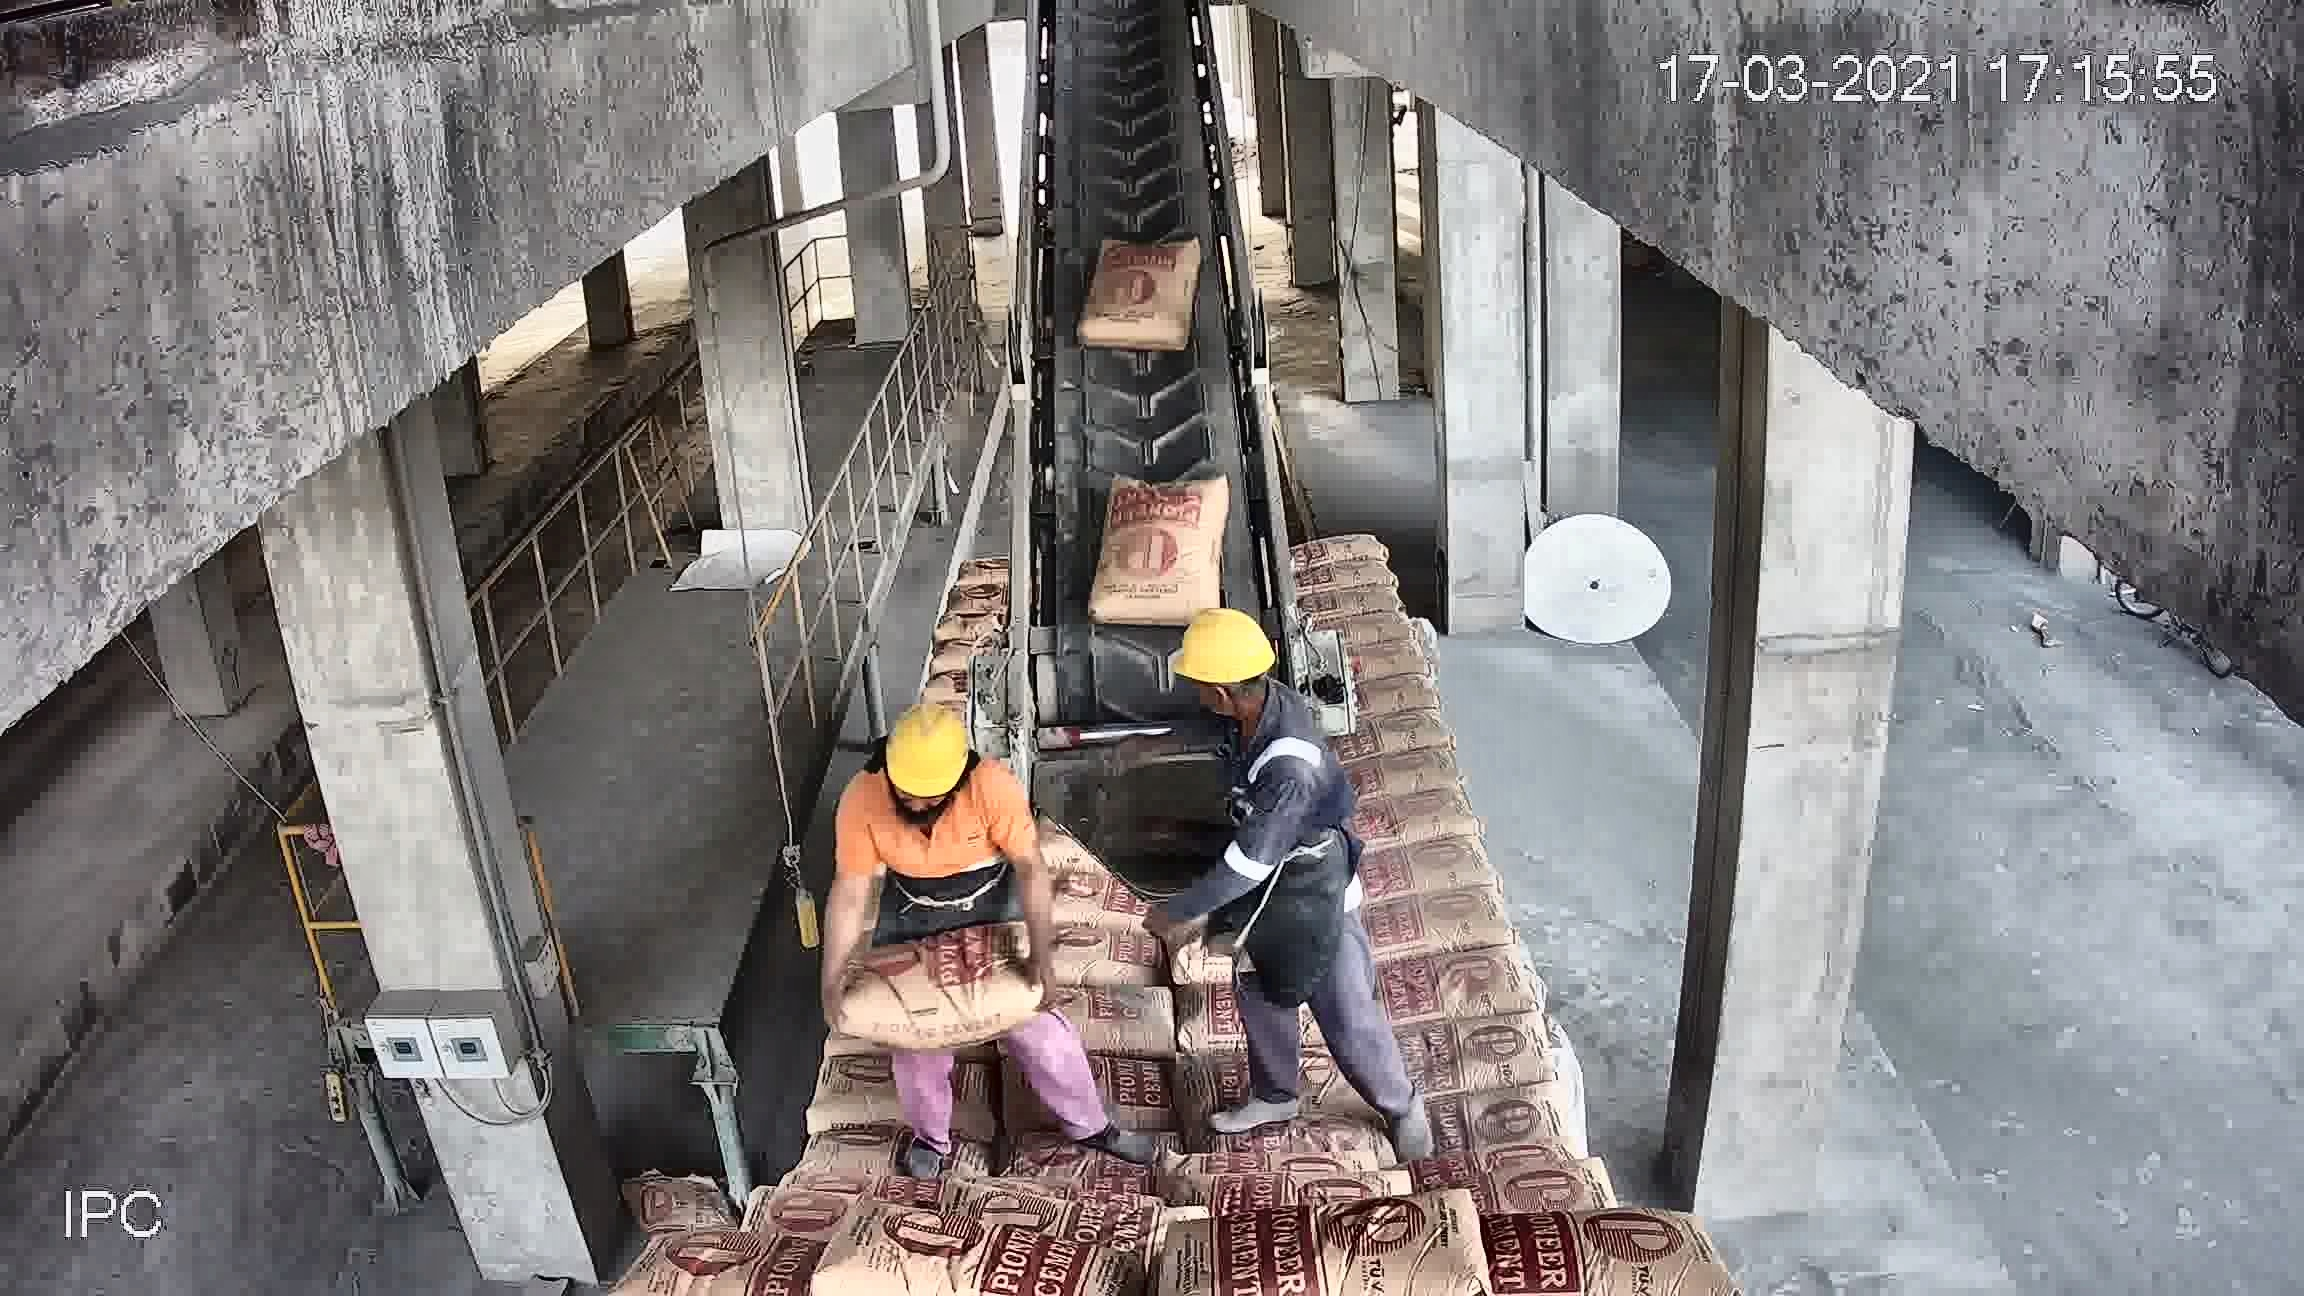bag: (997, 0, 1283, 851), (1086, 465, 1226, 627), (1074, 239, 1199, 343)
bag_h: (1199, 1204, 1525, 1294), (821, 921, 1032, 1048), (1437, 1204, 1696, 1294), (812, 1222, 1111, 1294), (798, 1108, 995, 1192), (633, 1225, 851, 1296), (1396, 1002, 1559, 1092), (1361, 892, 1525, 964), (1432, 1092, 1575, 1171), (1388, 957, 1533, 1024), (1355, 839, 1492, 904), (1355, 782, 1464, 858), (1317, 707, 1451, 763), (1347, 744, 1454, 810), (1298, 589, 1404, 628), (1305, 562, 1400, 598), (1301, 540, 1396, 565)
